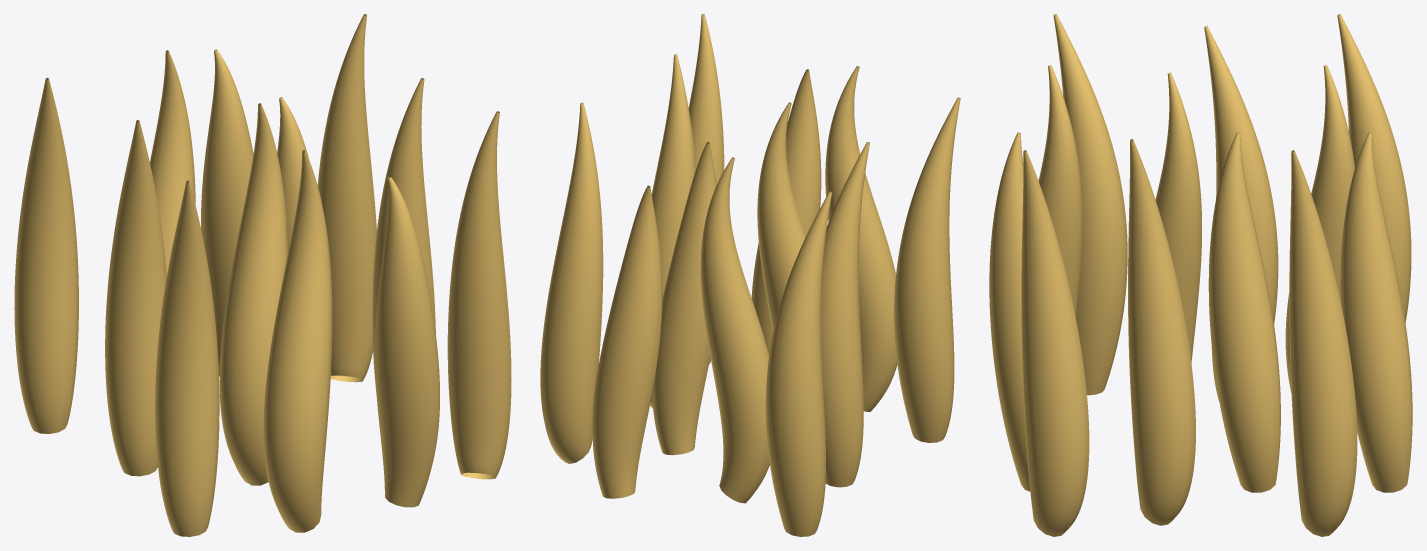
File: Gras-Gelb.fbx
3 renders of one model, left to right at view 1: azimuth 30°, elevation 25°; view 2: azimuth 150°, elevation 25°; view 3: azimuth 270°, elevation 25°, orthographic. The views are drawn at different scales.
Visible parts, largest first — view 1: Gras; view 2: Gras; view 3: Gras.
Part boxes in pixels (x1,y1,x2,y2): Gras: (14, 14, 511, 536); Gras: (540, 14, 960, 536); Gras: (989, 14, 1412, 536).
Size of the model in its own units: 54.55 by 60.22 by 60.07.
